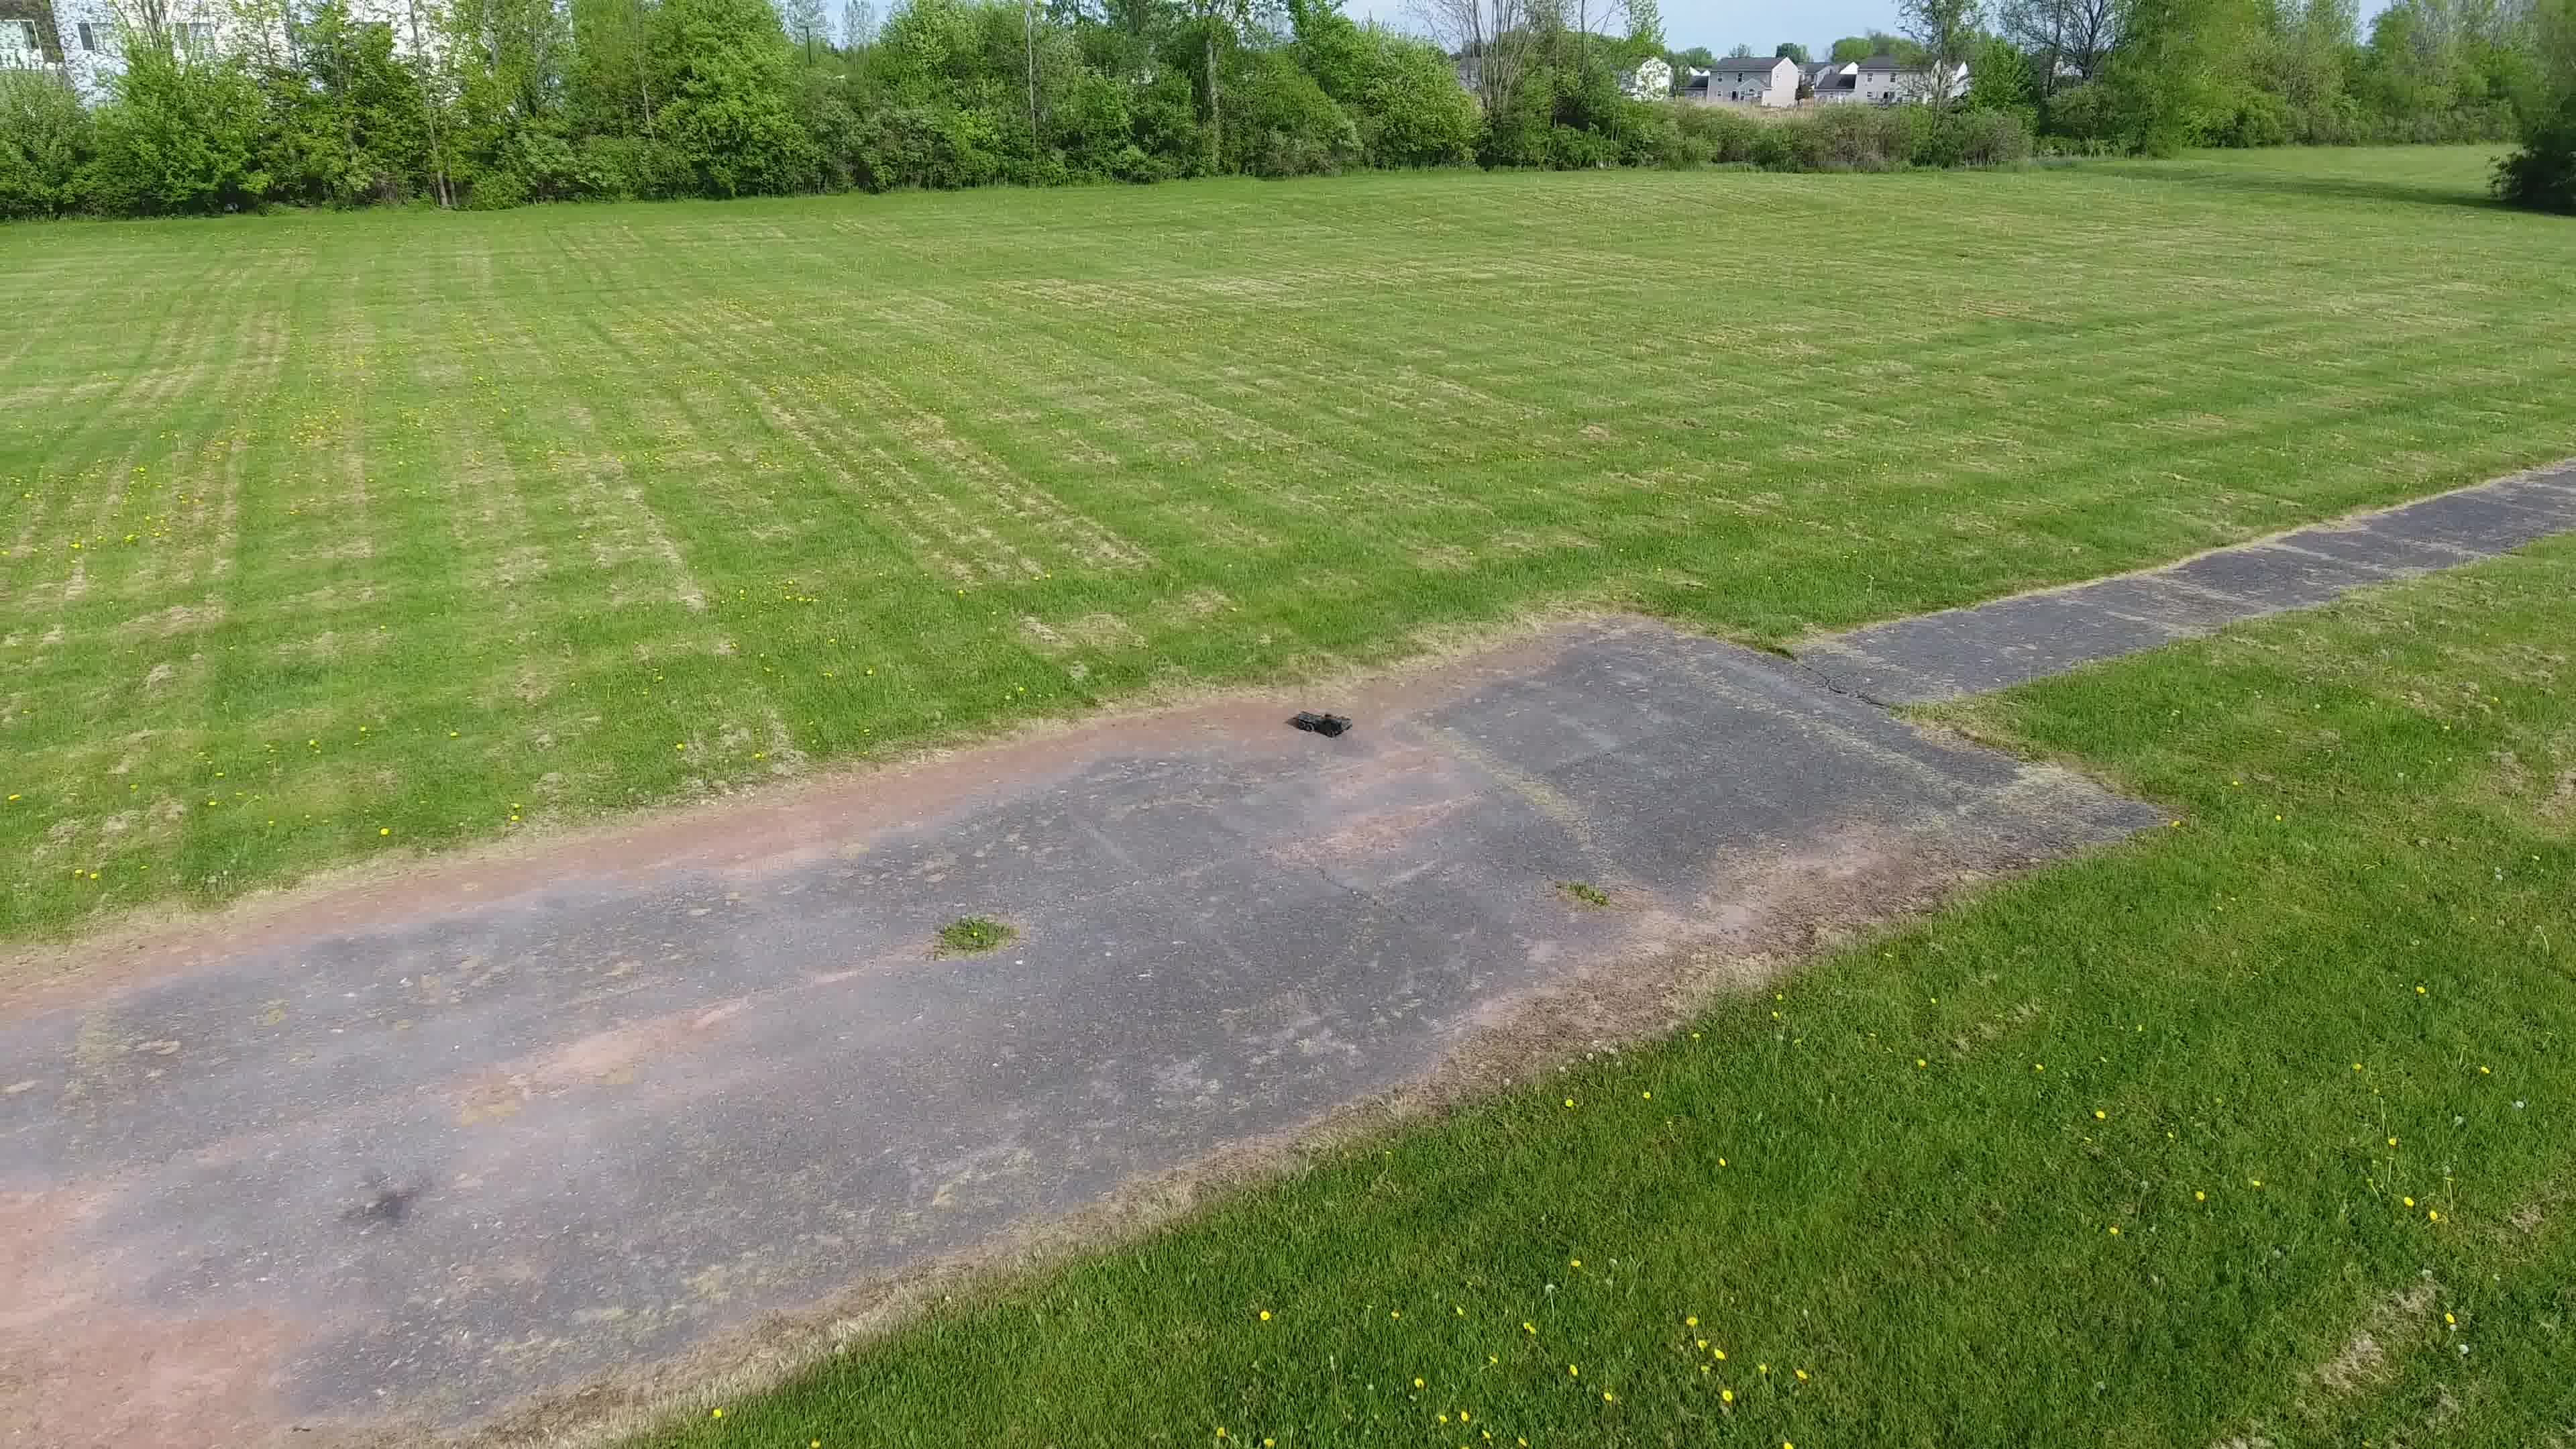transporter9_camo: (1288, 708, 1355, 740)
